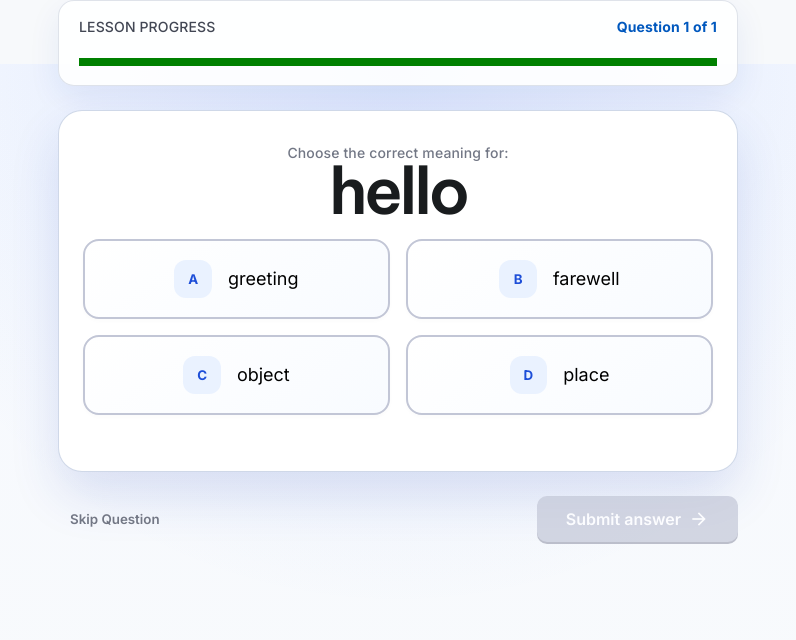
Scenario: TEST-017 multiple choice › shows a user-facing error if submission fails and handles skip
Click the button "A greeting": (236, 279) [83, 239, 390, 319]
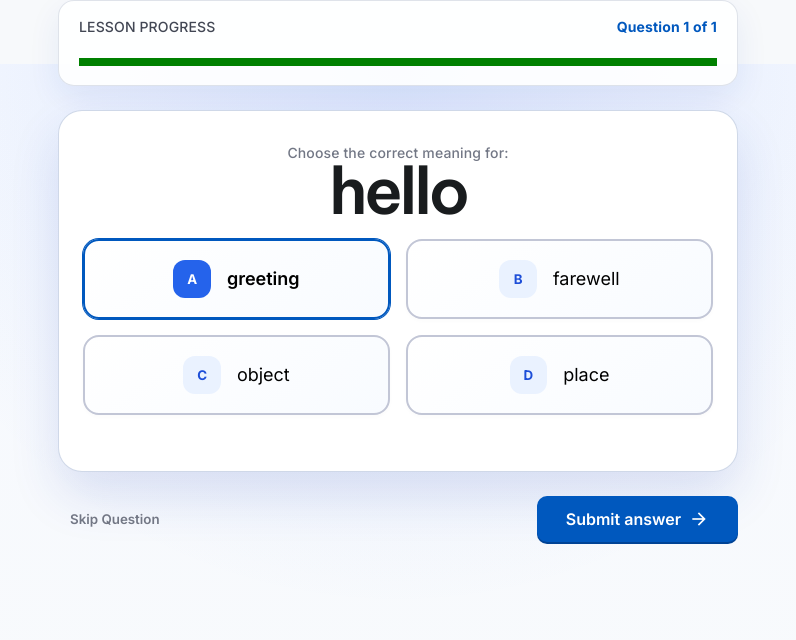
Click the button "Submit answer": (637, 519) [537, 496, 738, 542]
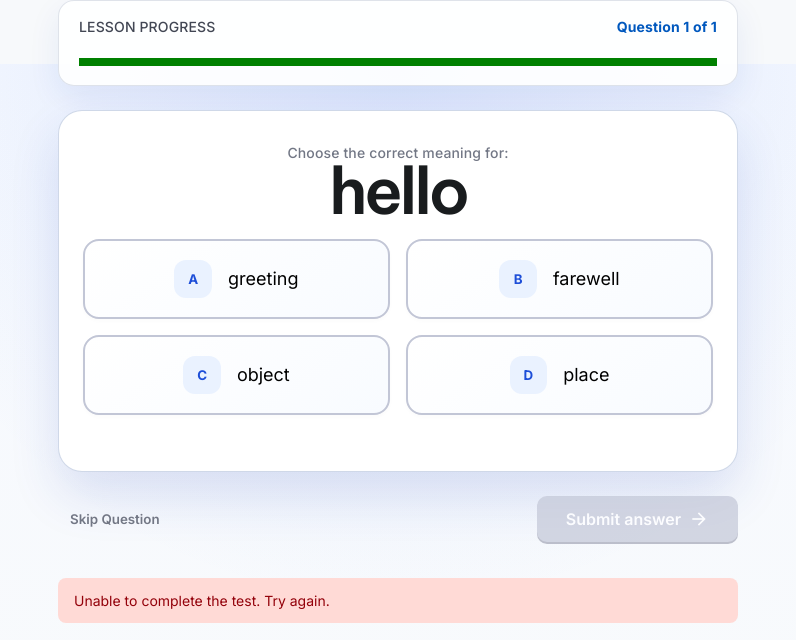
Expected: the message shows "Unable", [74, 592, 330, 609]
